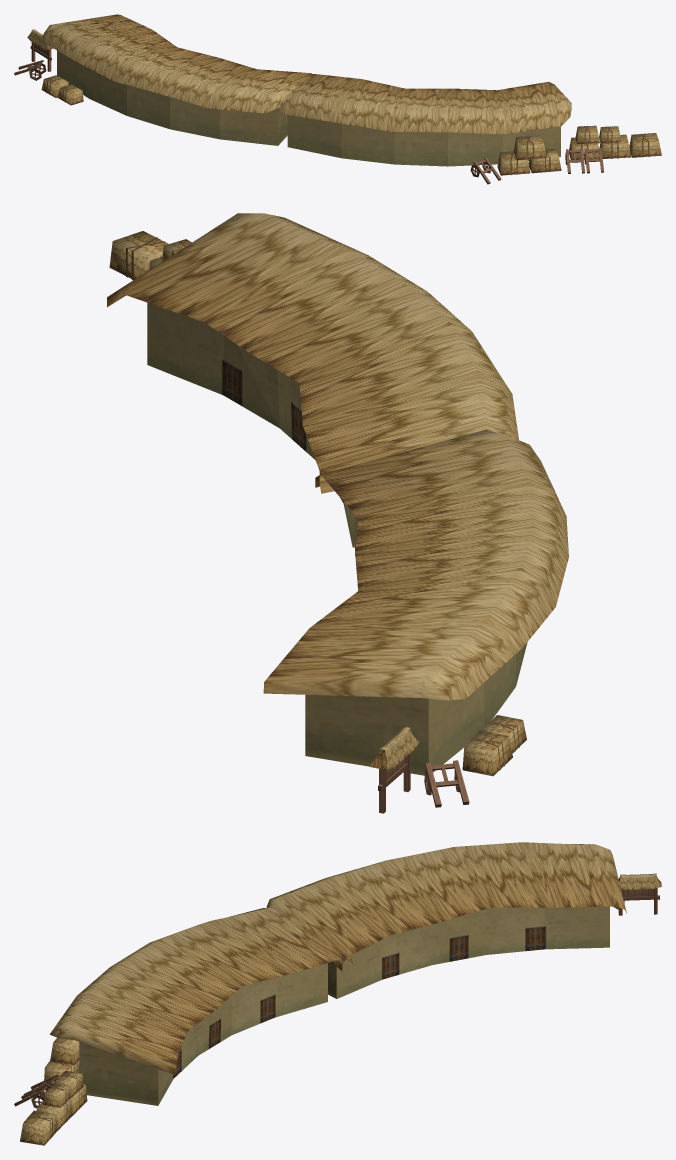
File: Area_12_25.fbx
The picture shows the model from 3 angles, top to bottom: view 1: azimuth 30°, elevation 25°; view 2: azimuth 150°, elevation 25°; view 3: azimuth 270°, elevation 25°; orthographic projection. The views are drawn at different scales.
Visible parts, largest first — view 1: Area_12_25; view 2: Area_12_25; view 3: Area_12_25.
Boxes of the visible parts, <box> form: Area_12_25: <box>14,14,661,184</box>; Area_12_25: <box>107,213,568,813</box>; Area_12_25: <box>14,842,661,1145</box>.
Bounding box in the file's own units: 3918 × 542 × 4263.
